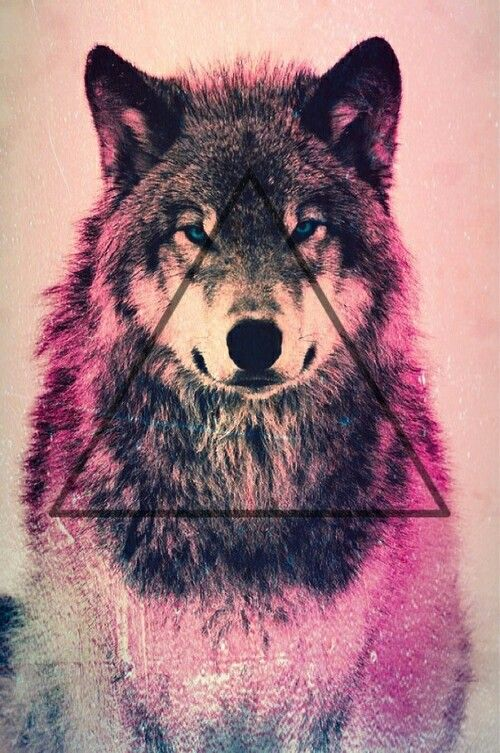Lobo: (26, 18, 471, 566)
